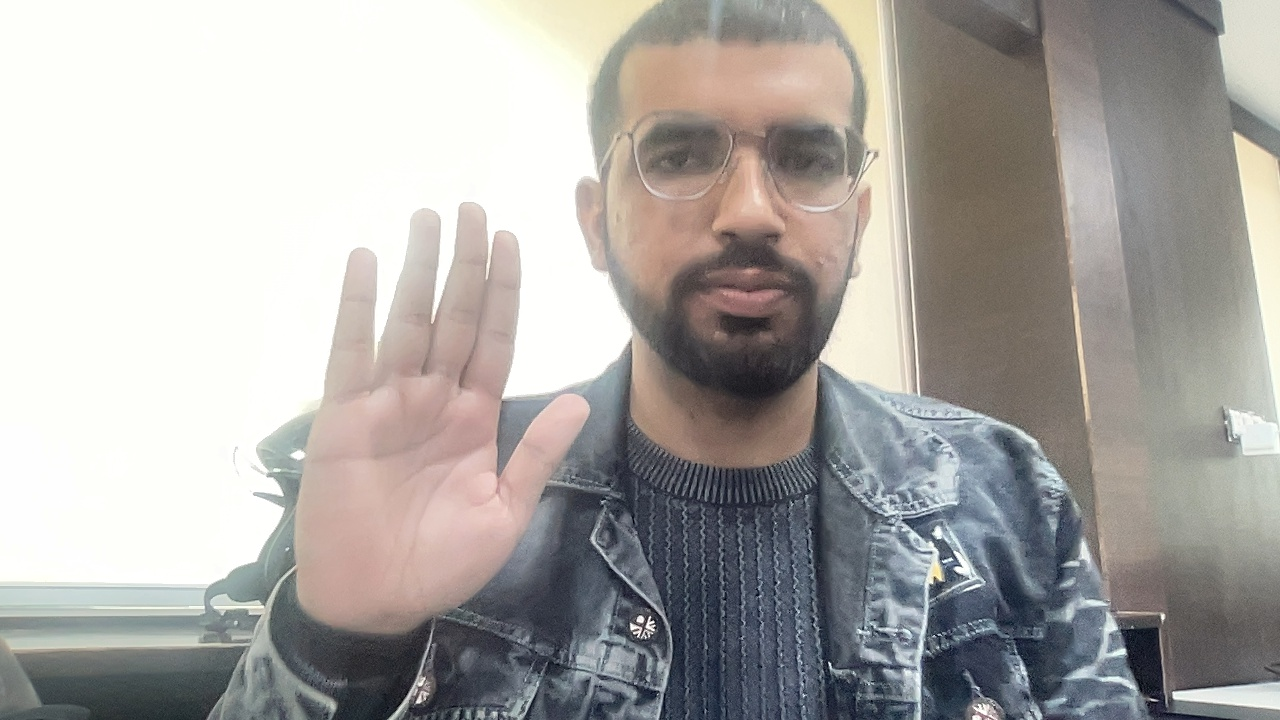Hello: (242, 149, 587, 642)
